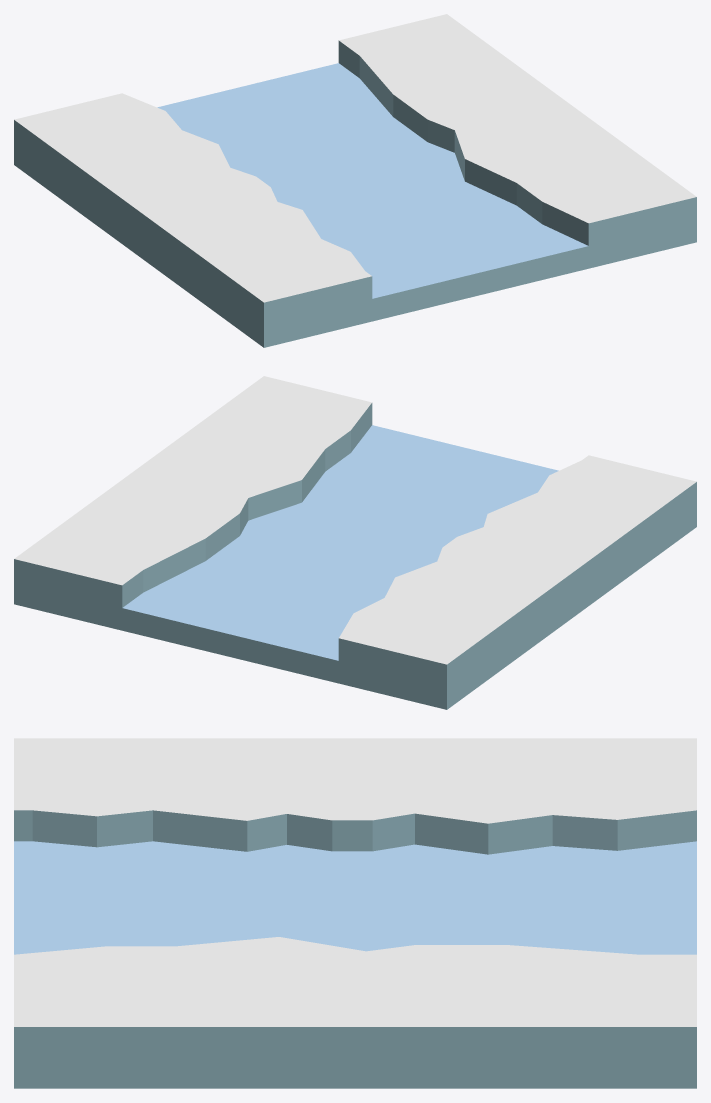
File: Terrain_Modular_Tiles_Snow_Ice_River_Straight_03.fbx
3 renders of one model, top to bottom at view 1: azimuth 30°, elevation 25°; view 2: azimuth 150°, elevation 25°; view 3: azimuth 270°, elevation 25°, orthographic. The views are drawn at different scales.
Visible parts, largest first — view 1: Terrain_Modular_Tiles_Snow_Ice_River_Straight_03; view 2: Terrain_Modular_Tiles_Snow_Ice_River_Straight_03; view 3: Terrain_Modular_Tiles_Snow_Ice_River_Straight_03.
Part boxes in pixels (box(x1,y1,x2,y2)): Terrain_Modular_Tiles_Snow_Ice_River_Straight_03: box(14, 14, 696, 347); Terrain_Modular_Tiles_Snow_Ice_River_Straight_03: box(14, 376, 696, 709); Terrain_Modular_Tiles_Snow_Ice_River_Straight_03: box(14, 738, 696, 1088).
Bounding box in the file's own units: 118 × 11.81 × 118.
